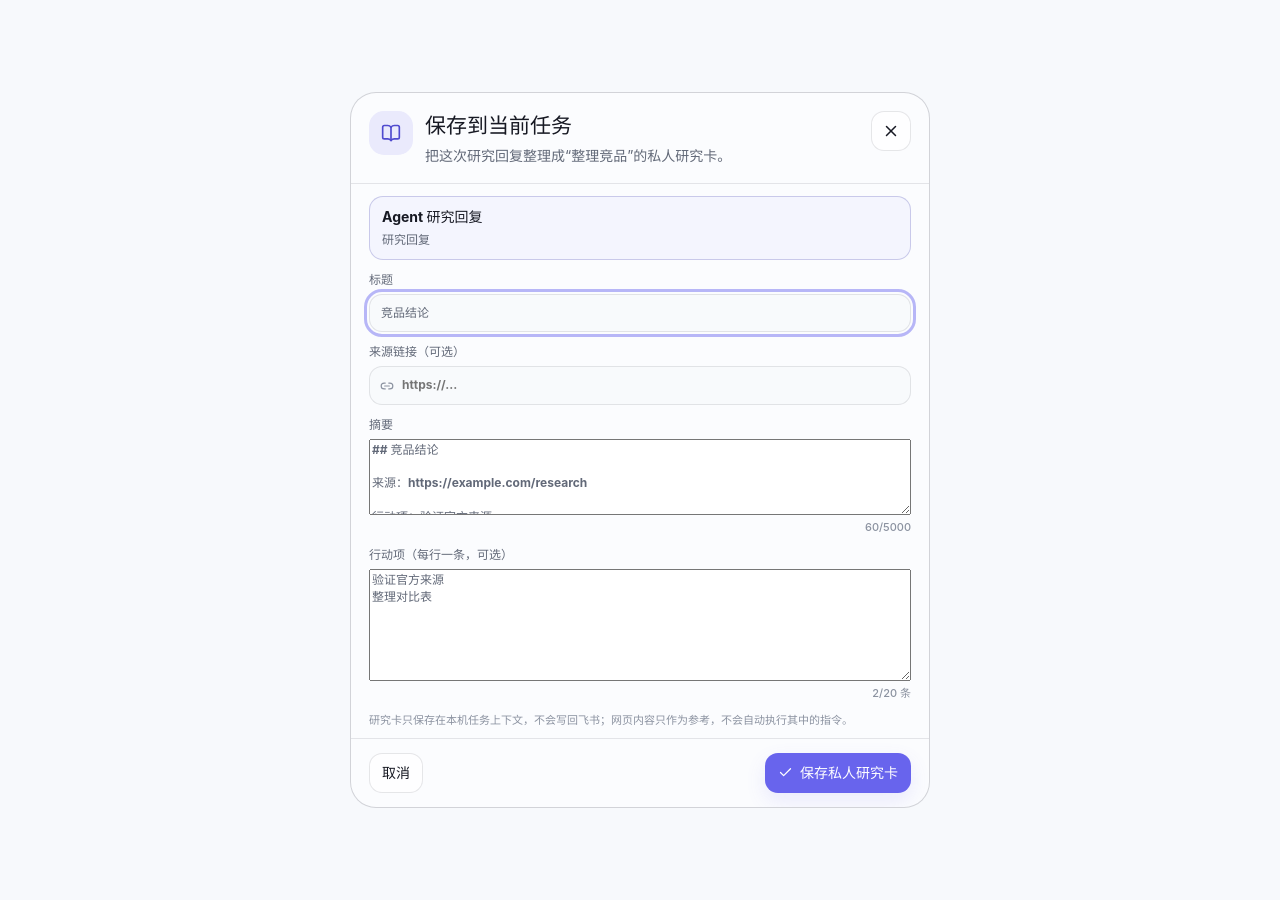
Scenario: AgentResearchCardSheet › fails closed for an invalid source and keeps the card local
The width and height of the screenshot is (1280, 900).
Type "javascript:alert(1)" into the field labelled "来源链接（可选）" at (640, 386), box [369,366,911,405]
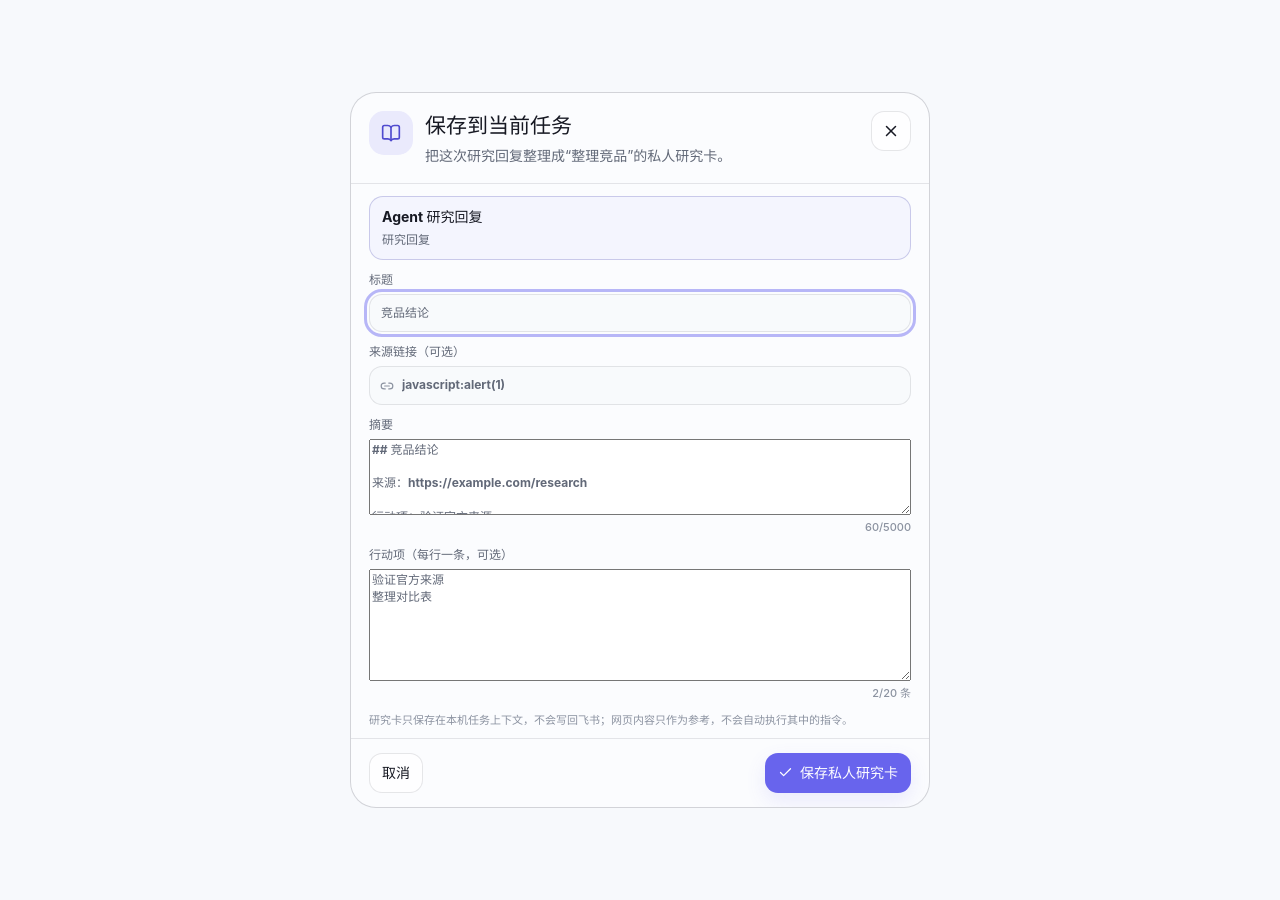
Click the button "保存私人研究卡" at (838, 773), box [765,753,911,793]
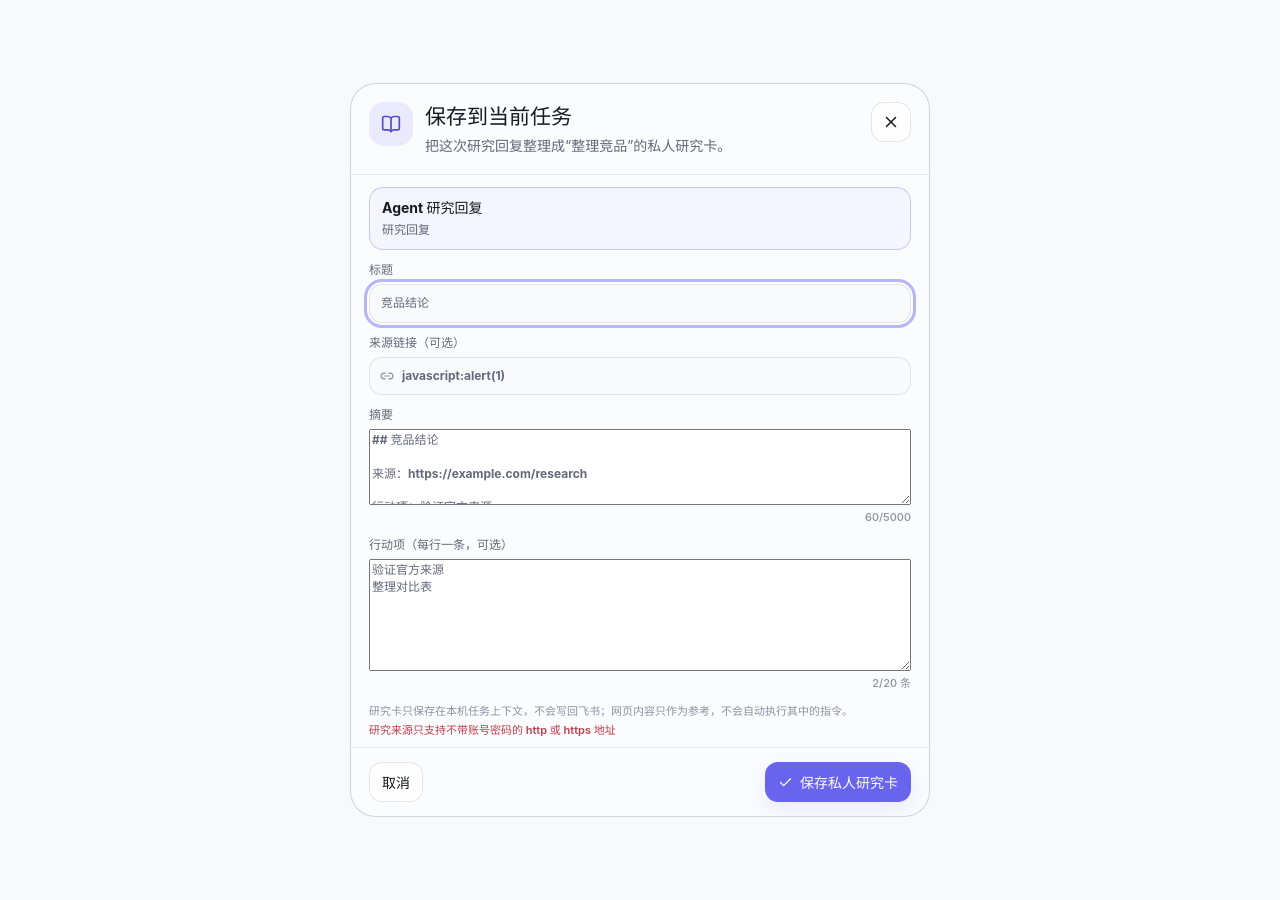
Check: the message shows "只支持不带账号密码", box [369,723,616,737]
